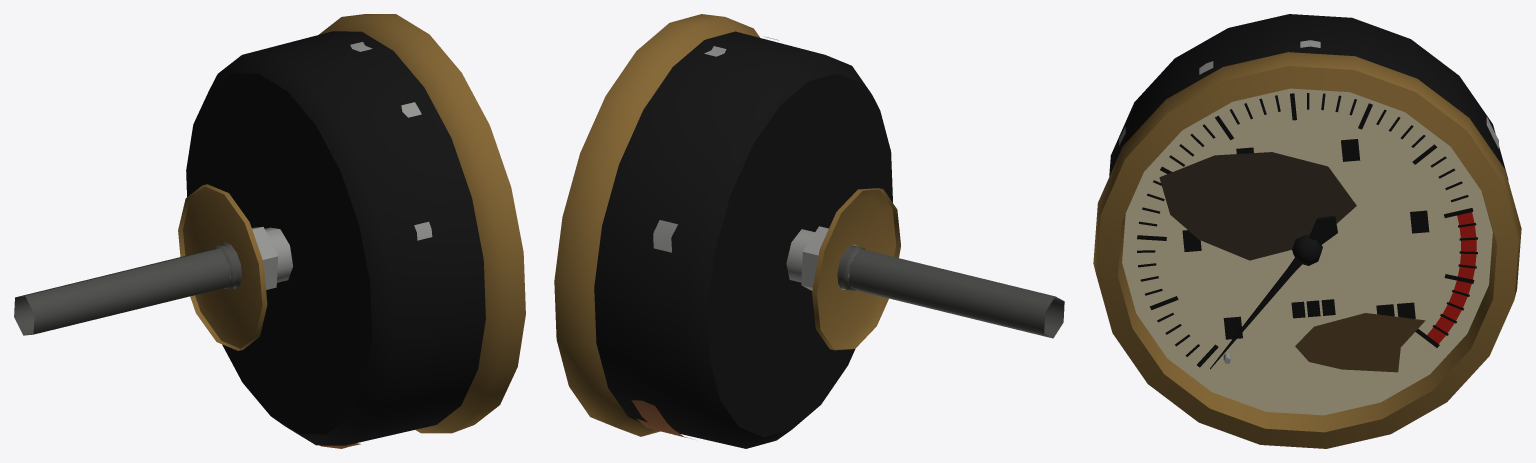
Rendered from gauge@2.glb.
3 renders of one model, left to right at view 1: azimuth 30°, elevation 25°; view 2: azimuth 150°, elevation 25°; view 3: azimuth 270°, elevation 25°, orthographic.
Parts seen in each view (by area): view 1: gauge0, gauge1, gauge8, gauge7; view 2: gauge0, gauge1, gauge8, gauge7, gauge9; view 3: gauge2, gauge1, gauge11, gauge0, gauge10, gauge3, gauge5, gauge6, gauge4, gauge7.
Boxes of the visible parts, x1=… form: gauge0: x1=186, y1=31, x2=485, y2=445; gauge1: x1=178, y1=14, x2=525, y2=433; gauge8: x1=14, y1=243, x2=241, y2=335; gauge7: x1=222, y1=42, x2=432, y2=289; gauge0: x1=594, y1=31, x2=892, y2=448; gauge1: x1=554, y1=14, x2=900, y2=436; gauge8: x1=837, y1=245, x2=1064, y2=338; gauge7: x1=653, y1=36, x2=856, y2=437; gauge9: x1=631, y1=400, x2=692, y2=439; gauge2: x1=1122, y1=88, x2=1492, y2=415; gauge1: x1=1093, y1=52, x2=1521, y2=448; gauge11: x1=1159, y1=152, x2=1356, y2=260; gauge0: x1=1109, y1=14, x2=1508, y2=179; gauge10: x1=1295, y1=313, x2=1425, y2=372; gauge3: x1=1137, y1=93, x2=1477, y2=367; gauge5: x1=1182, y1=139, x2=1429, y2=339; gauge6: x1=1210, y1=215, x2=1337, y2=369; gauge4: x1=1427, y1=212, x2=1476, y2=343; gauge7: x1=1119, y1=40, x2=1498, y2=363.
Size of the model in its own units: 0.164 by 0.1518 by 0.1518.
